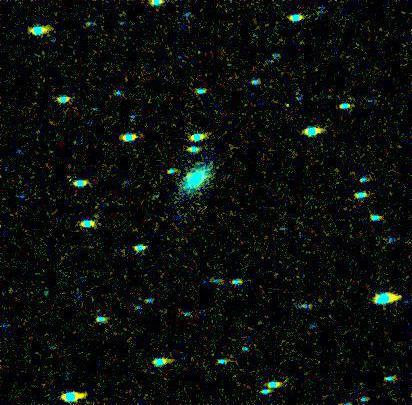star: (172, 162, 202, 192)
